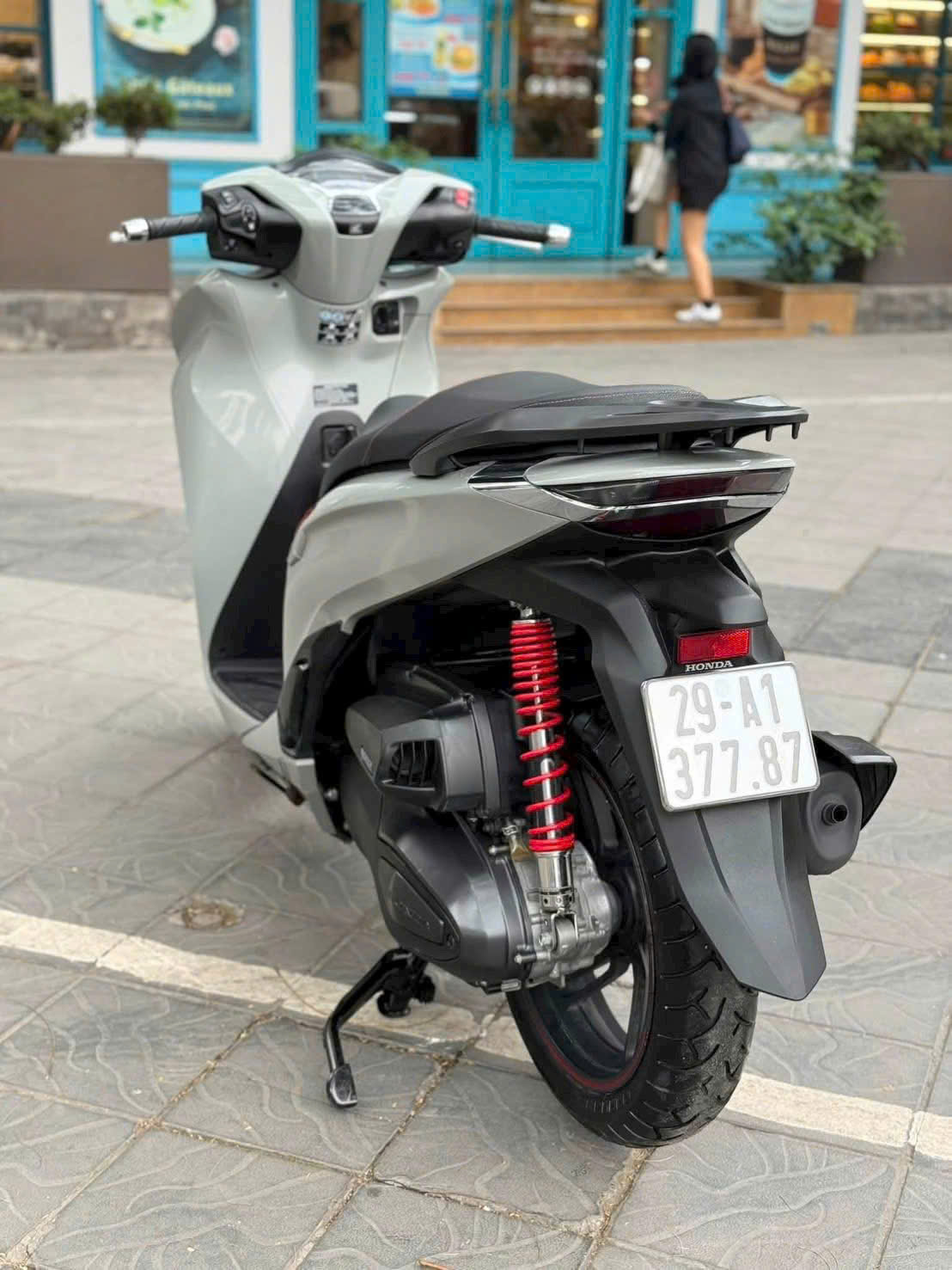Bien-so: (639, 657, 831, 815)
